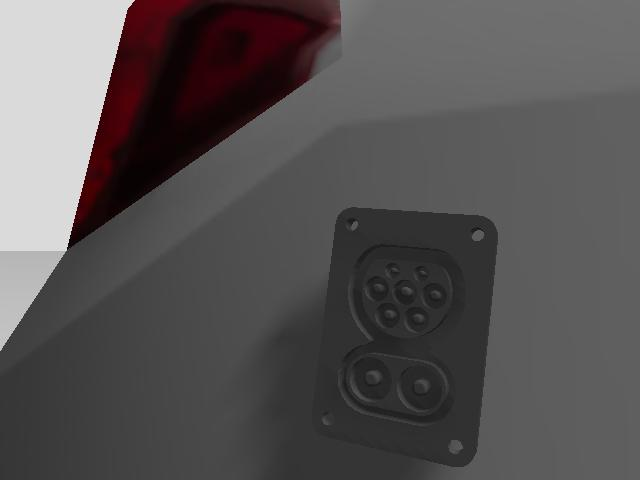EV-socket: (305, 206, 500, 474)
